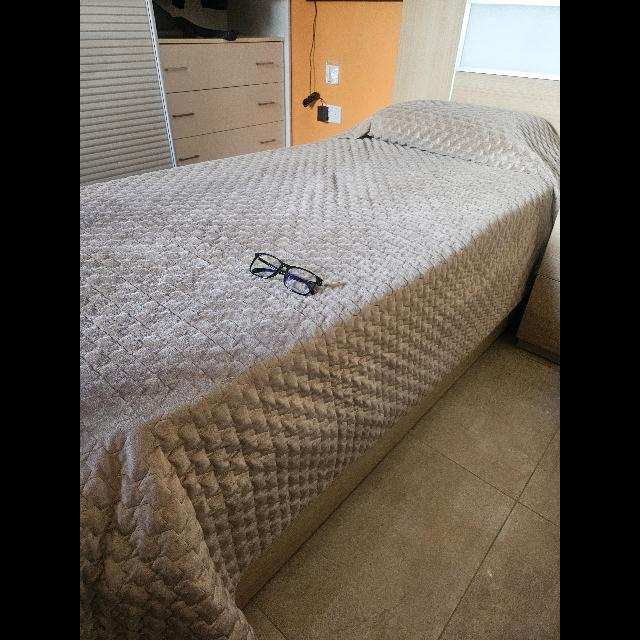glasses: (250, 252, 322, 296)
